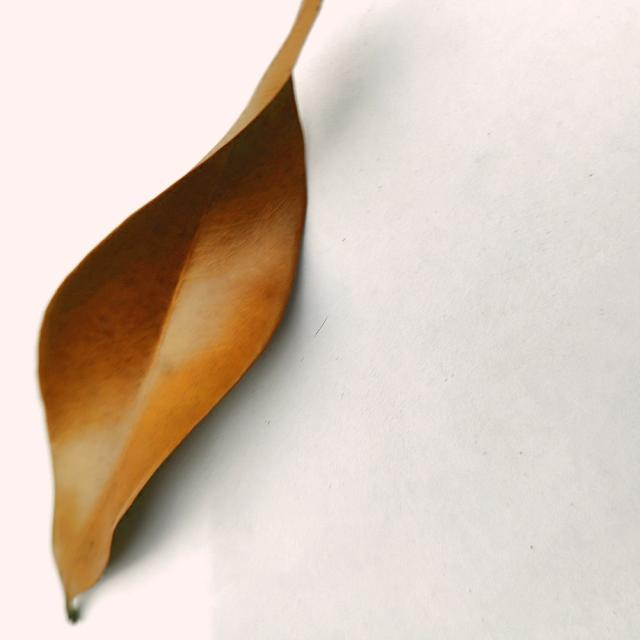Dry_Leaf-Lychee: (36, 0, 323, 623)
